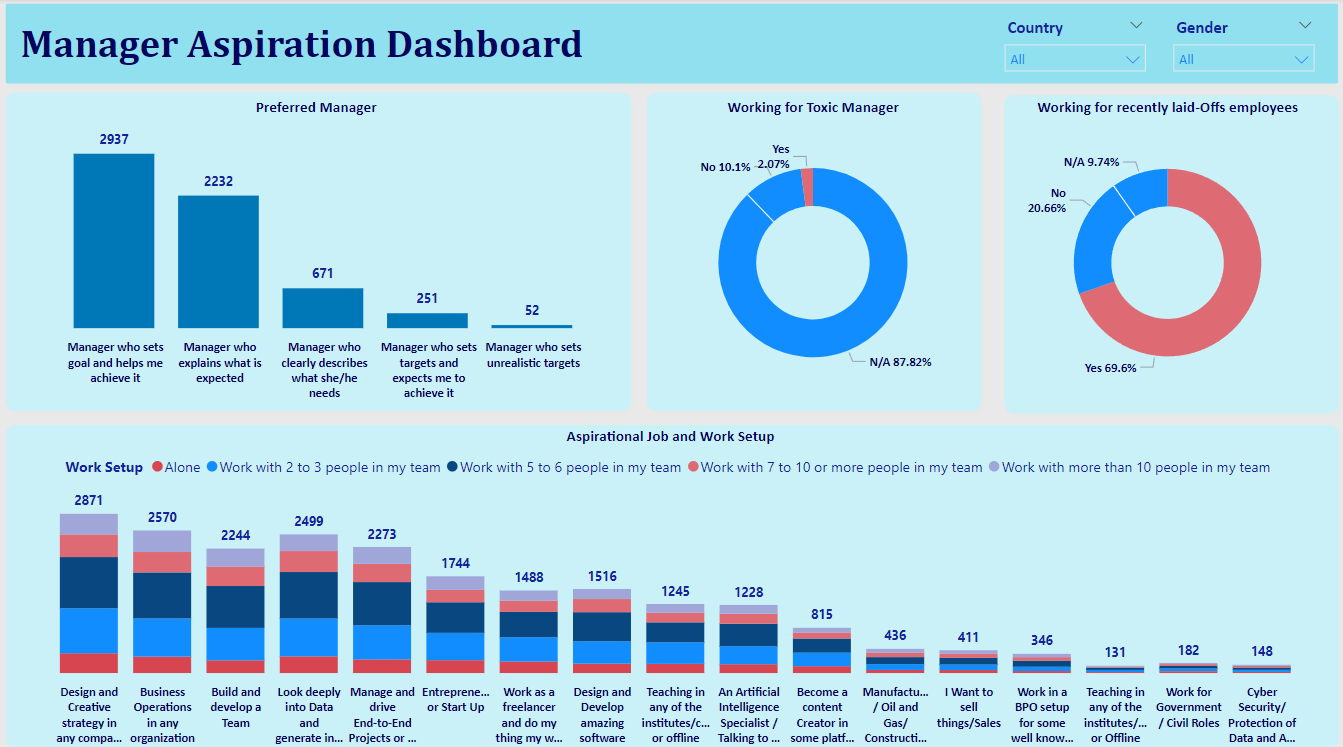

This screenshot's page, from the dashboard's own definition file:
{"tool":"powerbi","page":{"name":"Manager Aspiration","canvas":[1280,720],"ordinal":2},"visuals":[{"type":"shape","box":[0,400.7,1280.3,319.7],"z":0},{"type":"shape","box":[950.7,86.4,329.3,314.2],"z":1000},{"type":"shape","box":[611.3,85.1,329.3,314.2],"z":2000},{"type":"shape","box":[0,85.1,606.5,314.2],"z":3000},{"type":"shape","box":[0,0,1279.8,86.9],"z":4000},{"type":"slicer","fields":{"Values":["Form responses 1.Gender"]},"box":[1107.1,12.9,154.8,65.5],"z":5000},{"type":"slicer","fields":{"Values":["Form responses 1.Country"]},"box":[946.4,12.9,154.8,65.5],"z":6000},{"type":"textbox","box":[13.7,16.5,592.8,53.5],"z":7000},{"type":"columnChart","title":"Preferred Manager","fields":{"Category":["Form responses 1.Wanted Manager"],"Y":["Count(Form responses 1.Respond Id)"]},"box":[9.6,94.7,583.2,296.4],"z":8000},{"type":"donutChart","title":"Working for Toxic Manager","fields":{"Y":["Count(Form responses 1.Respond Id)"],"Category":["Form responses 1.Working for toxic manager"]},"box":[621.6,94.7,306,296.4],"z":9000},{"type":"columnChart","title":"Aspirational Job and Work Setup","fields":{"Category":["Form responses 1.Aspirational Job"],"Y":["Count(Form responses 1.Respond Id)"],"Series":["Form responses 1.Work Setup"]},"box":[13.7,408.9,1248.7,311.5],"z":10000},{"type":"donutChart","title":"Working for recently laid-Offs employees","fields":{"Y":["Count(Form responses 1.Respond Id)"],"Category":["Form responses 1.Working for recently laid-Offs employees"]},"box":[961.9,94.7,300.5,296.4],"z":11000}]}

Visuals, with their boxes in screenshot pixels (x1, y1, x2, y2), scaled from the page's 1280x720 canvas onto the 1343x747 screenshot:
shape: <region>0, 416, 1342, 746</region>
shape: <region>997, 90, 1342, 416</region>
shape: <region>641, 88, 987, 414</region>
shape: <region>0, 88, 636, 414</region>
shape: <region>0, 0, 1342, 90</region>
slicer - Form responses 1.Gender: <region>1162, 13, 1324, 81</region>
slicer - Form responses 1.Country: <region>993, 13, 1155, 81</region>
textbox: <region>14, 17, 636, 73</region>
"Preferred Manager" columnChart: <region>10, 98, 622, 406</region>
"Working for Toxic Manager" donutChart: <region>652, 98, 973, 406</region>
"Aspirational Job and Work Setup" columnChart: <region>14, 424, 1325, 746</region>
"Working for recently laid-Offs employees" donutChart: <region>1009, 98, 1325, 406</region>
